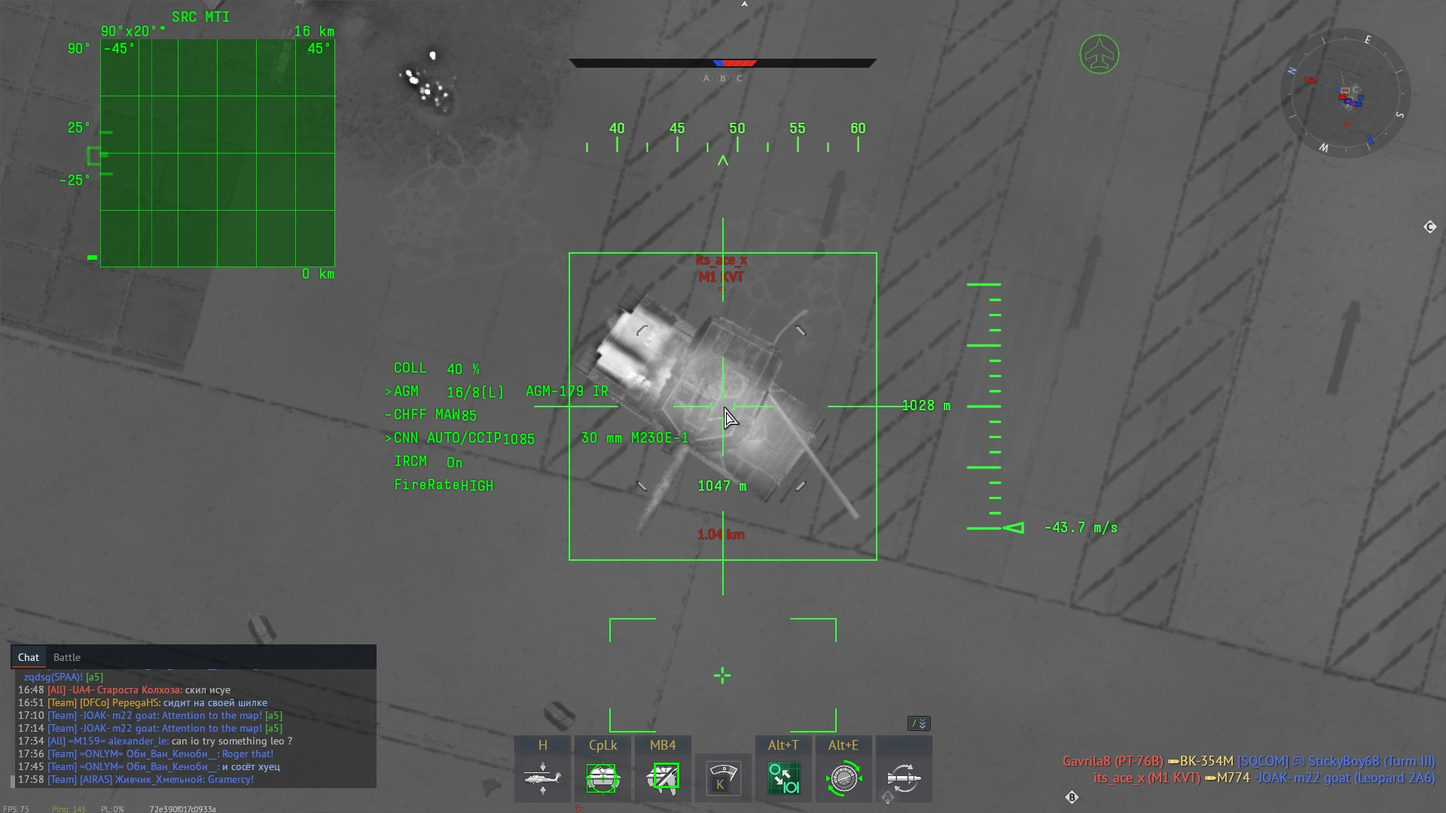abrams: (572, 283, 830, 539)
